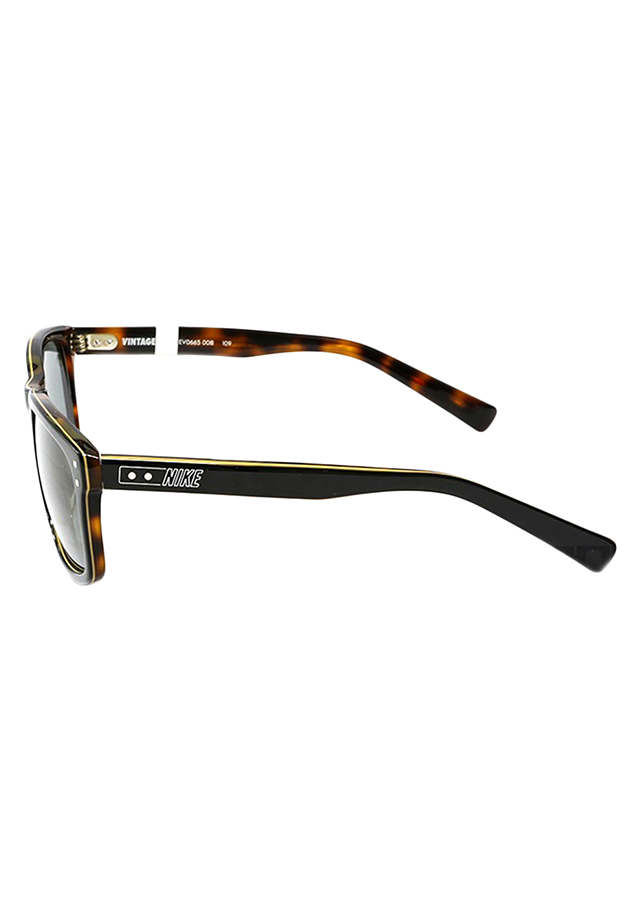Nike: (162, 465, 207, 489)
